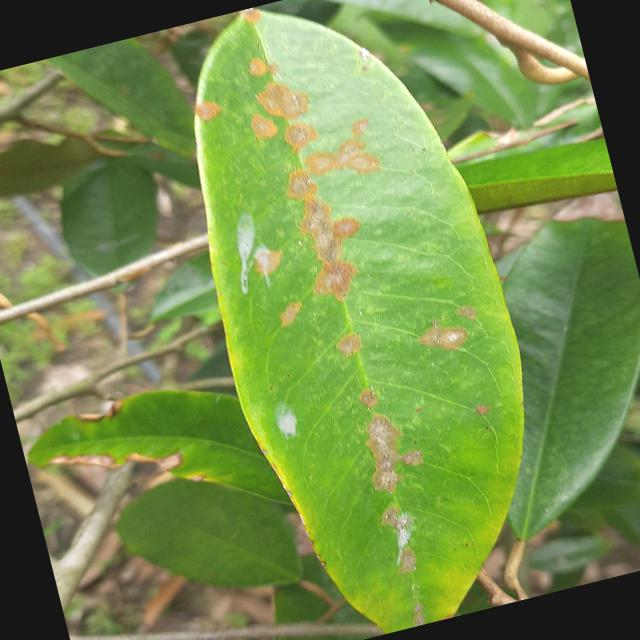Algal Leaf Spot: (138, 0, 586, 639)
